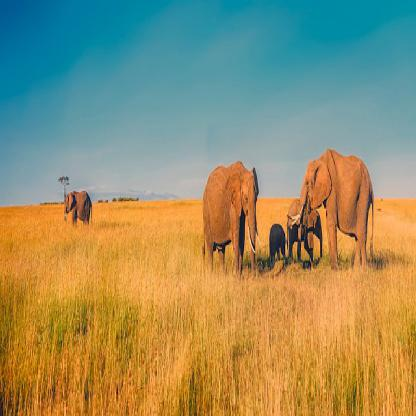elephant: (302, 148, 381, 274), (199, 159, 259, 284), (63, 186, 92, 232)
